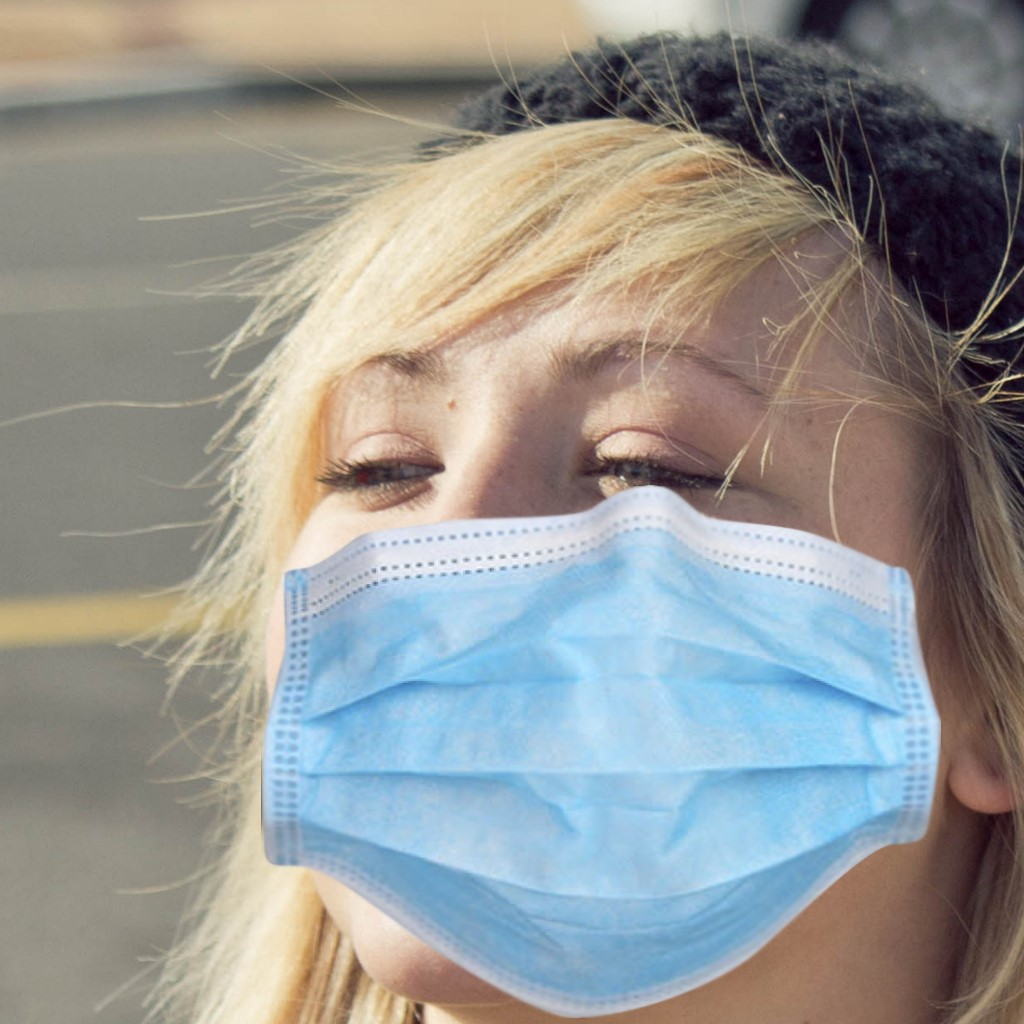con_mascara: (232, 103, 951, 967)
